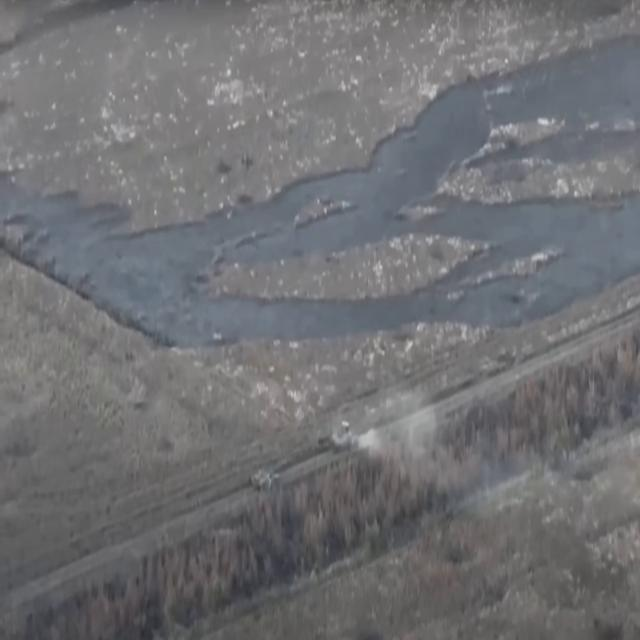AIFV: (330, 421, 356, 457)
MBT: (251, 458, 286, 496)
